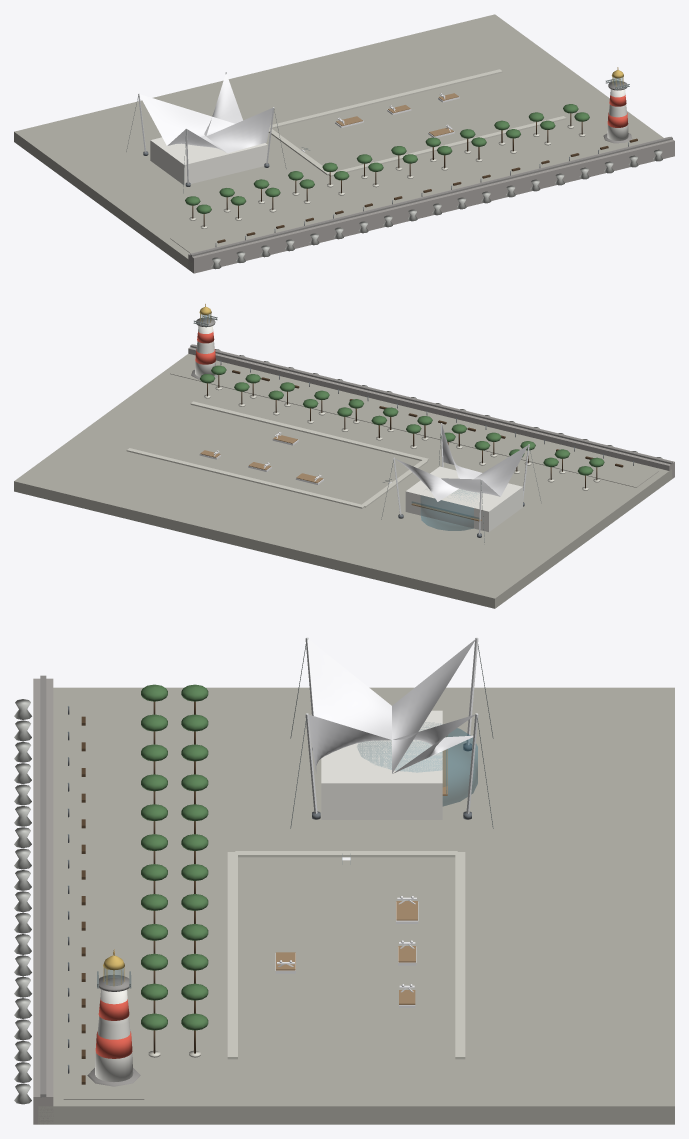
Rendered from map.glb.
The picture shows the model from 3 angles, top to bottom: view 1: azimuth 30°, elevation 25°; view 2: azimuth 150°, elevation 25°; view 3: azimuth 270°, elevation 25°; orthographic projection. The views are drawn at different scales.
Bounding box in the file's own units: 196 × 32.2 × 131.
